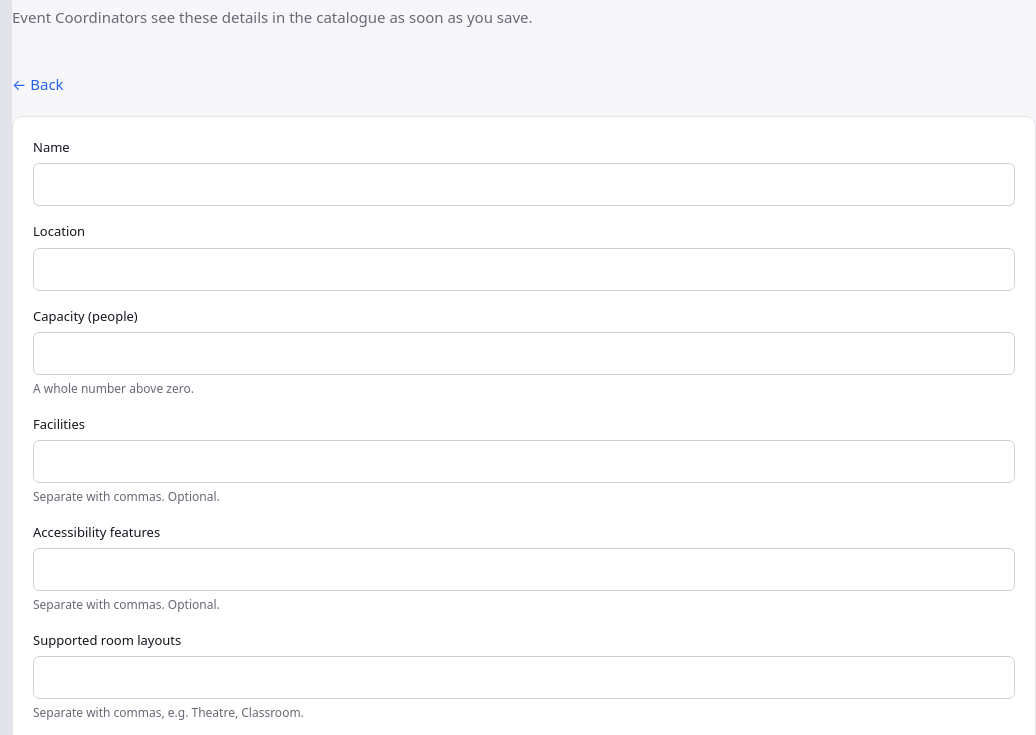
Test: Add a venue › ac3 blocks a save with a missing detail or bad capacity, sending nothing
Type "-3" into the field labelled "Capacity (people)" at (524, 354), box x1=33 y1=332 x2=1015 y2=375
(page scrolled)
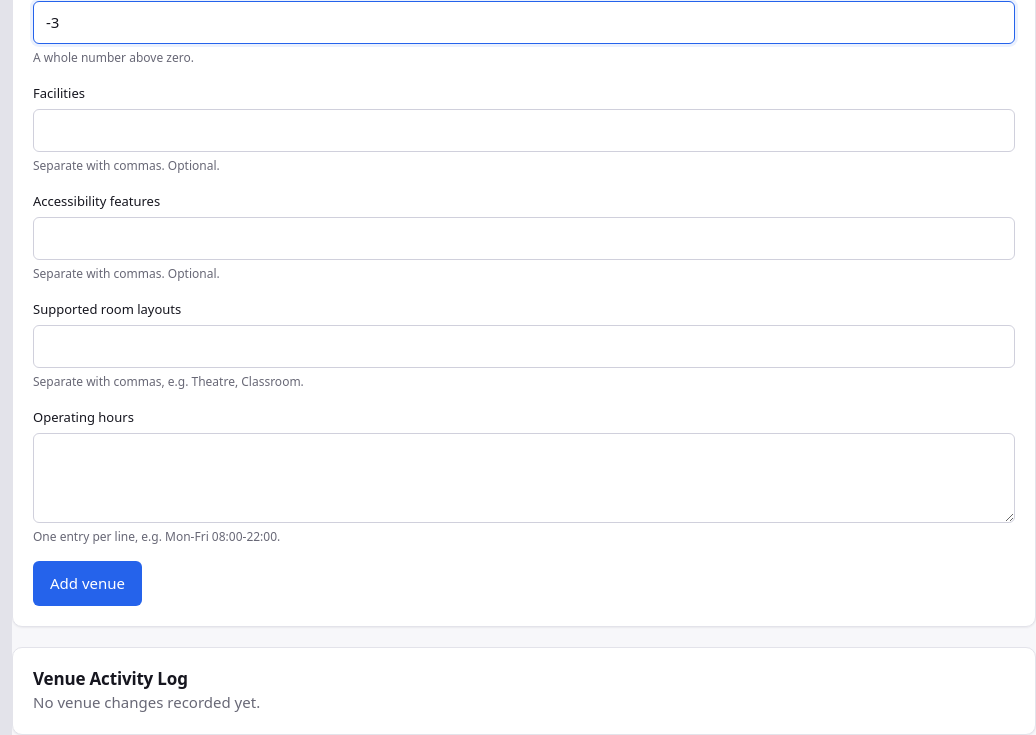
Click the button "Add venue" at (88, 584), box x1=33 y1=561 x2=142 y2=606
(page scrolled)
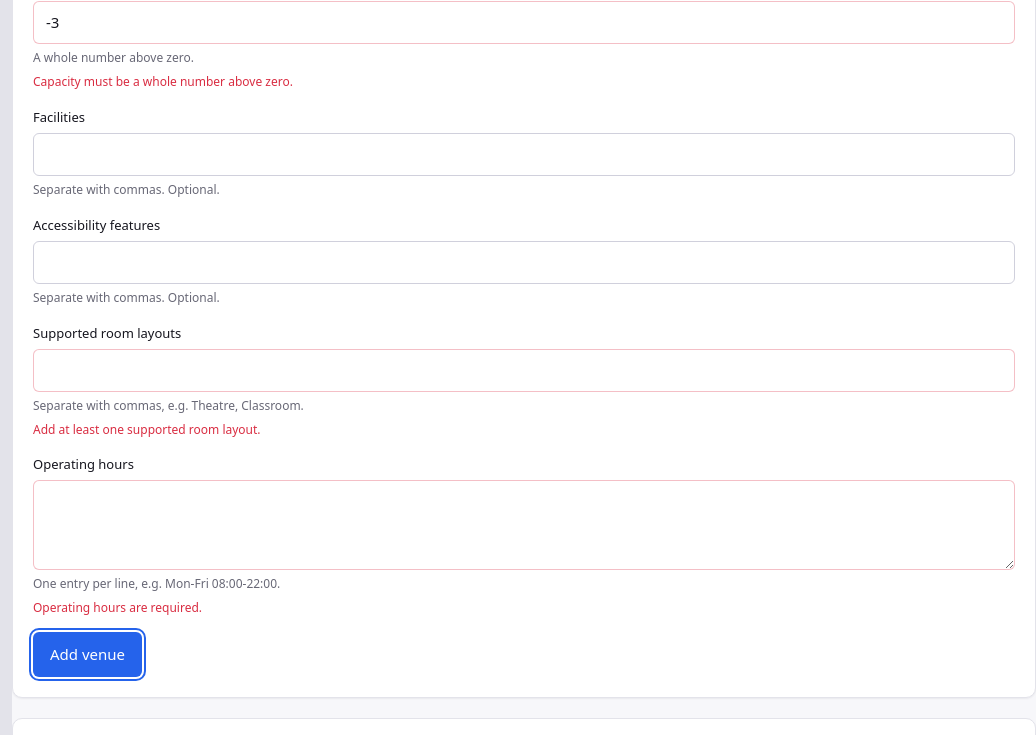
expect the text "Capacity must be a whole number above zero." is shown: met, box x1=33 y1=73 x2=293 y2=90
